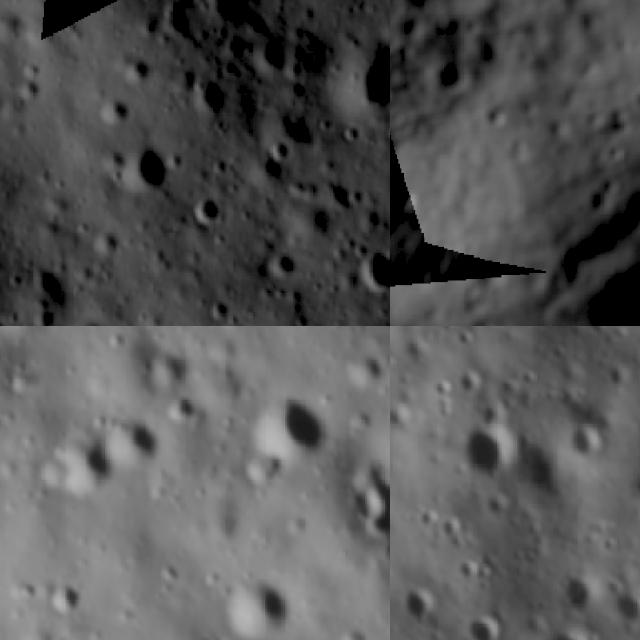crater: (247, 386, 336, 478), (210, 571, 303, 640), (47, 427, 115, 507), (335, 32, 390, 129), (116, 140, 186, 205), (101, 407, 170, 472), (338, 455, 390, 541), (460, 426, 514, 480), (199, 0, 266, 37), (352, 245, 390, 308), (89, 84, 141, 130), (430, 51, 476, 100), (340, 341, 386, 389), (564, 421, 610, 469), (564, 569, 605, 616), (114, 46, 162, 86), (393, 582, 433, 630), (188, 186, 230, 231), (477, 95, 521, 137), (262, 247, 308, 286), (44, 576, 84, 618), (168, 392, 208, 432), (456, 613, 510, 640), (257, 136, 299, 170), (201, 292, 237, 326), (186, 619, 238, 640), (542, 624, 596, 640), (65, 313, 121, 326), (624, 78, 640, 113)
